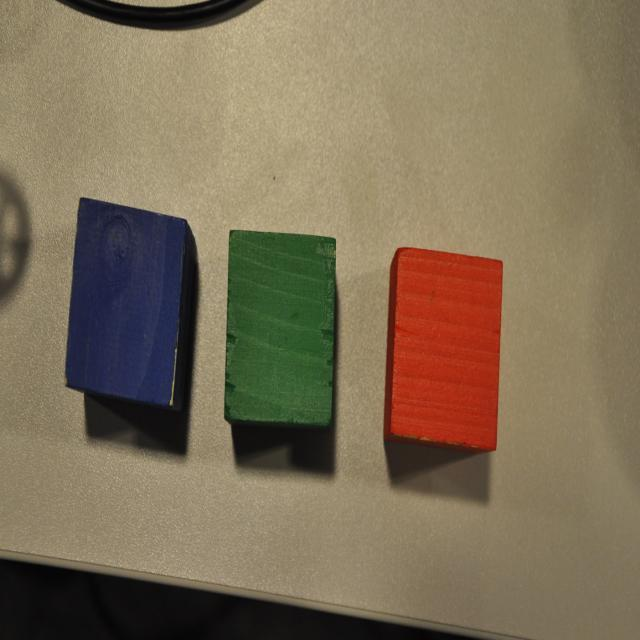bluecube: (65, 194, 196, 414)
green cube: (224, 230, 339, 440)
red cube: (387, 249, 504, 455)
